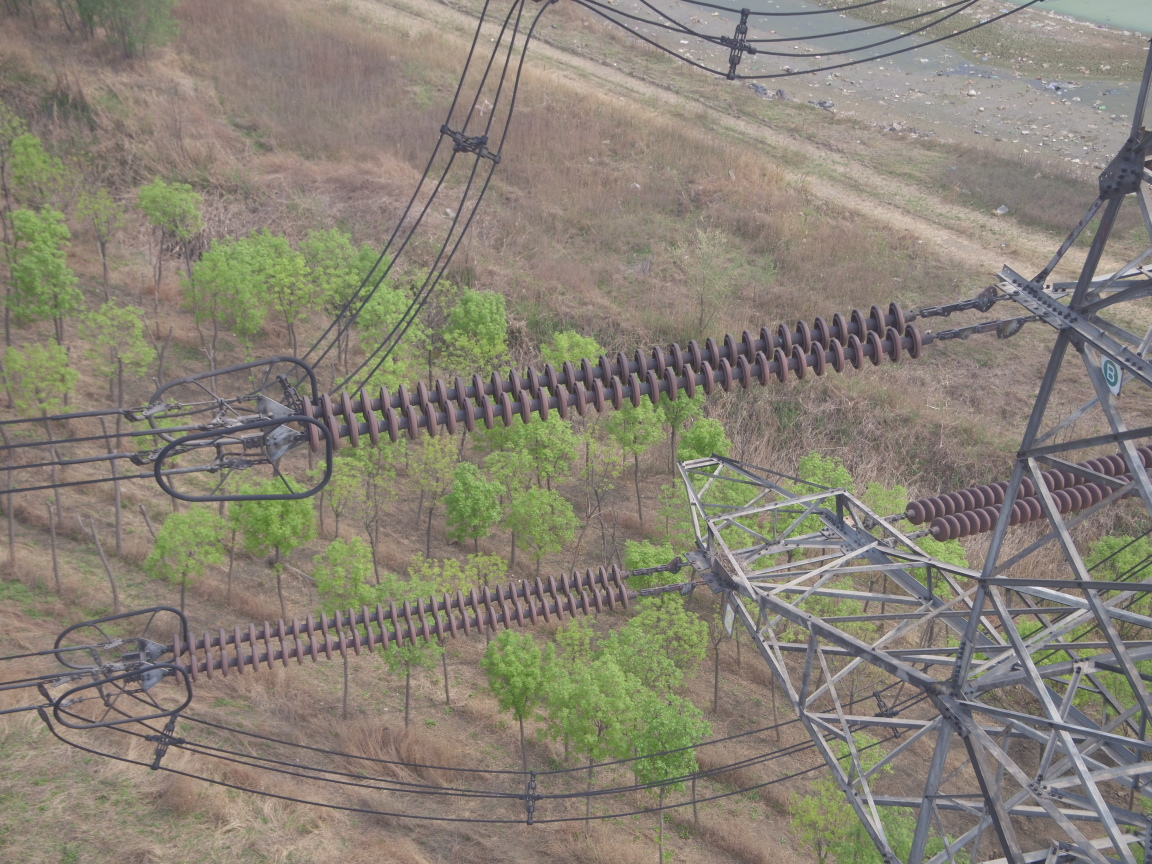insulator: (286, 296, 977, 456), (158, 563, 655, 689)
